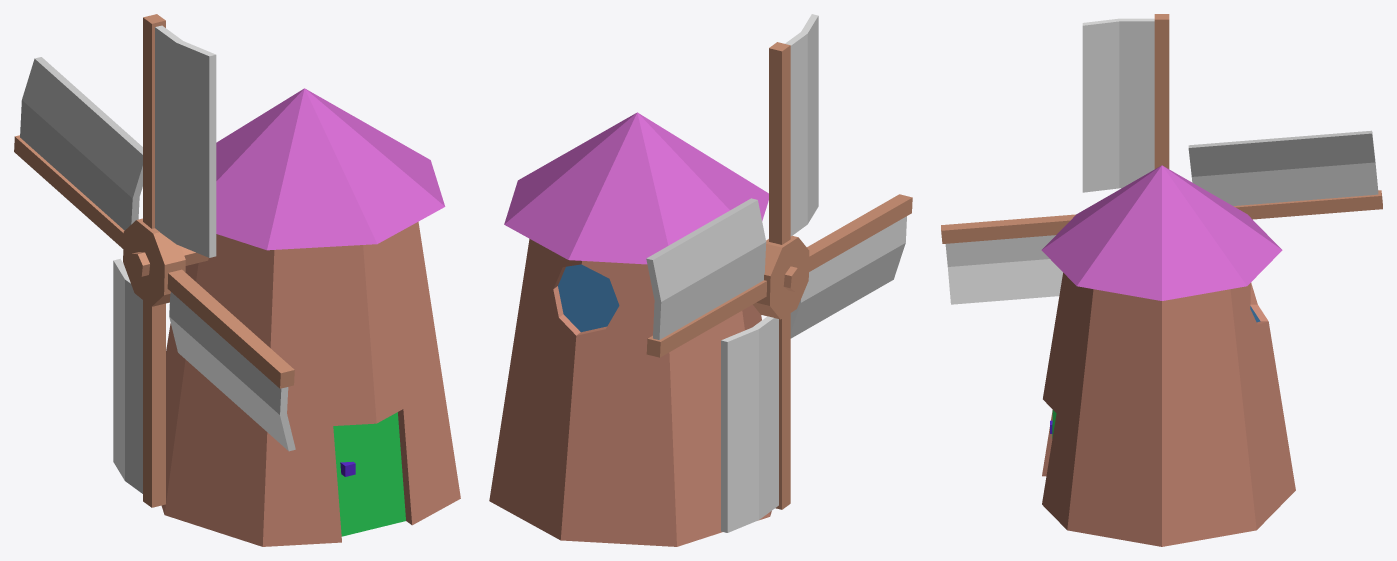
Rendered from Windmill.fbx.
3 renders of one model, left to right at view 1: azimuth 30°, elevation 25°; view 2: azimuth 150°, elevation 25°; view 3: azimuth 270°, elevation 25°, orthographic. The views are drawn at different scales.
Parts seen in each view (by area): view 1: Base, Wind.; view 2: Base, Wind.; view 3: Base, Wind..
Boxes of the visible parts, x1,y1,x2,y2 form: Base: (161,88,460,546); Wind.: (14,14,295,507); Base: (489,112,771,546); Wind.: (646,14,912,532); Base: (1041,165,1295,546); Wind.: (941,14,1382,304).
Size of the model in its own units: 880 by 1360 by 1319.
